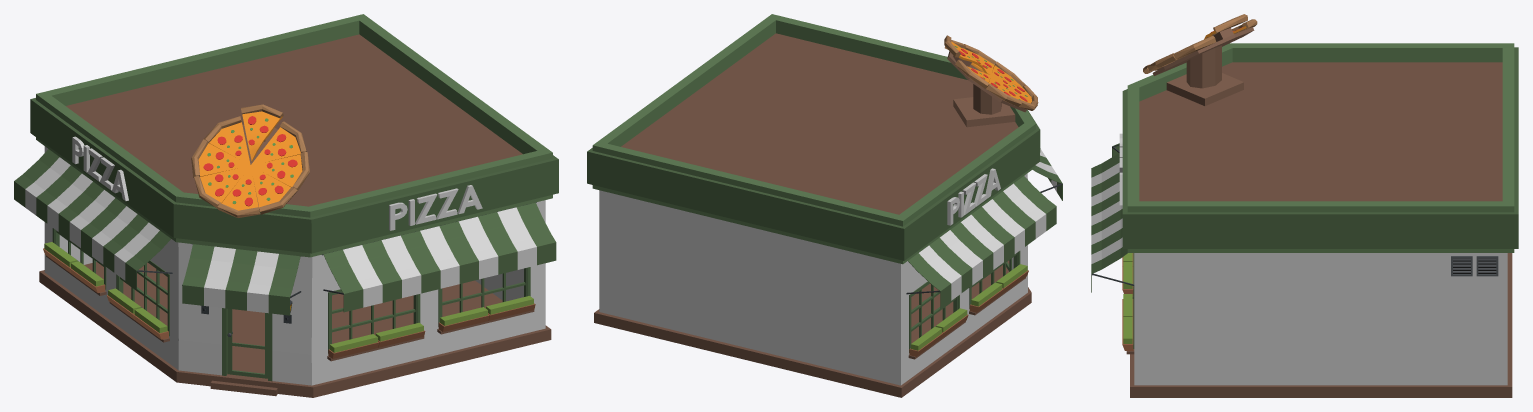
File: Pizza_01.fbx
3 views of the same model, side by side, from view 1: azimuth 30°, elevation 25°; view 2: azimuth 150°, elevation 25°; view 3: azimuth 270°, elevation 25° (orthographic). The views are drawn at different scales.
Parts seen in each view (by area): view 1: Pizza_01, Pizza_01_Door1; view 2: Pizza_01; view 3: Pizza_01.
Part boxes in pixels (bbox=[...]): Pizza_01: bbox=[14, 14, 558, 397]; Pizza_01_Door1: bbox=[227, 308, 267, 378]; Pizza_01: bbox=[587, 14, 1062, 397]; Pizza_01: bbox=[1091, 14, 1518, 397].
Bounding box in the file's own units: 892 × 602 × 893.
